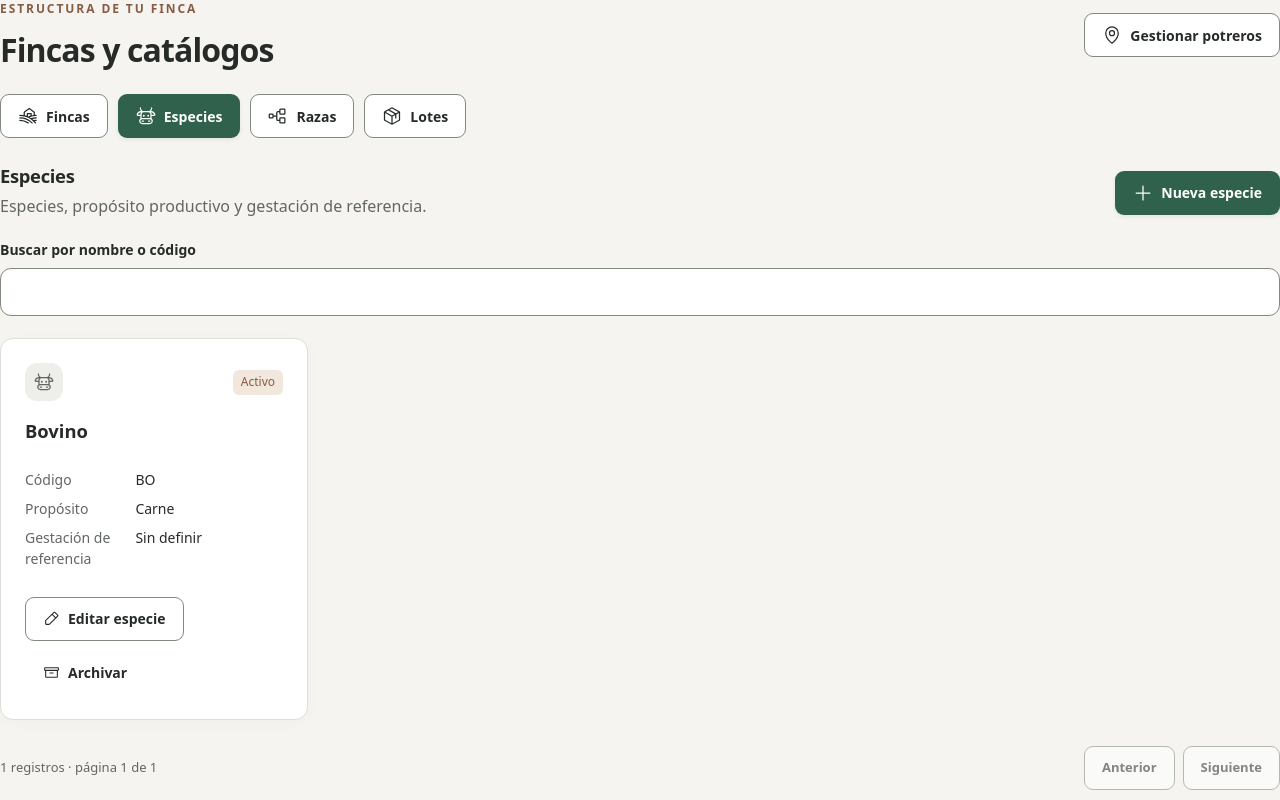
it: creates a species record through its protected endpoint
This screenshot has width=1280, height=800.
Step 1. Click the button "Nueva especie" → {"x": 1198, "y": 193}, box [1115,171,1279,215]
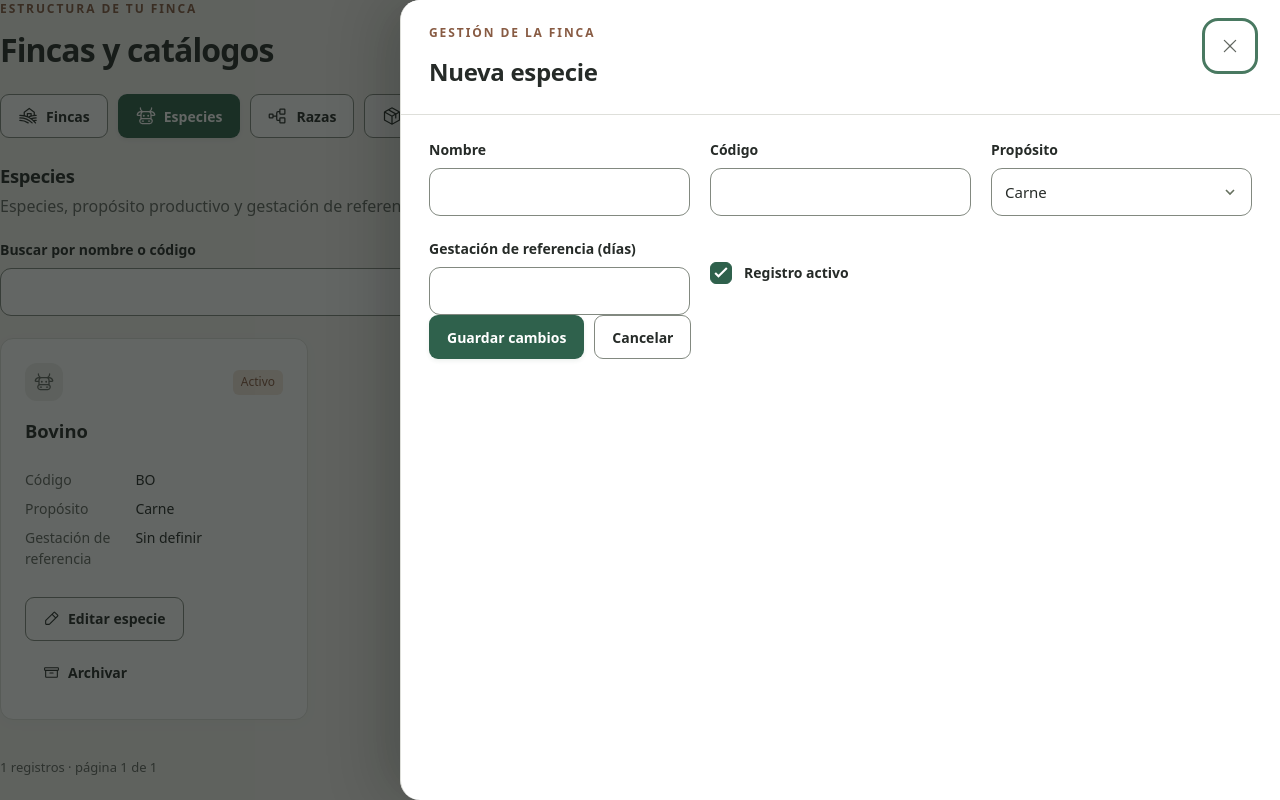
Step 2. Type "Registro nuevo" into the field labelled "Nombre" → {"x": 560, "y": 192}, box [429,168,690,216]
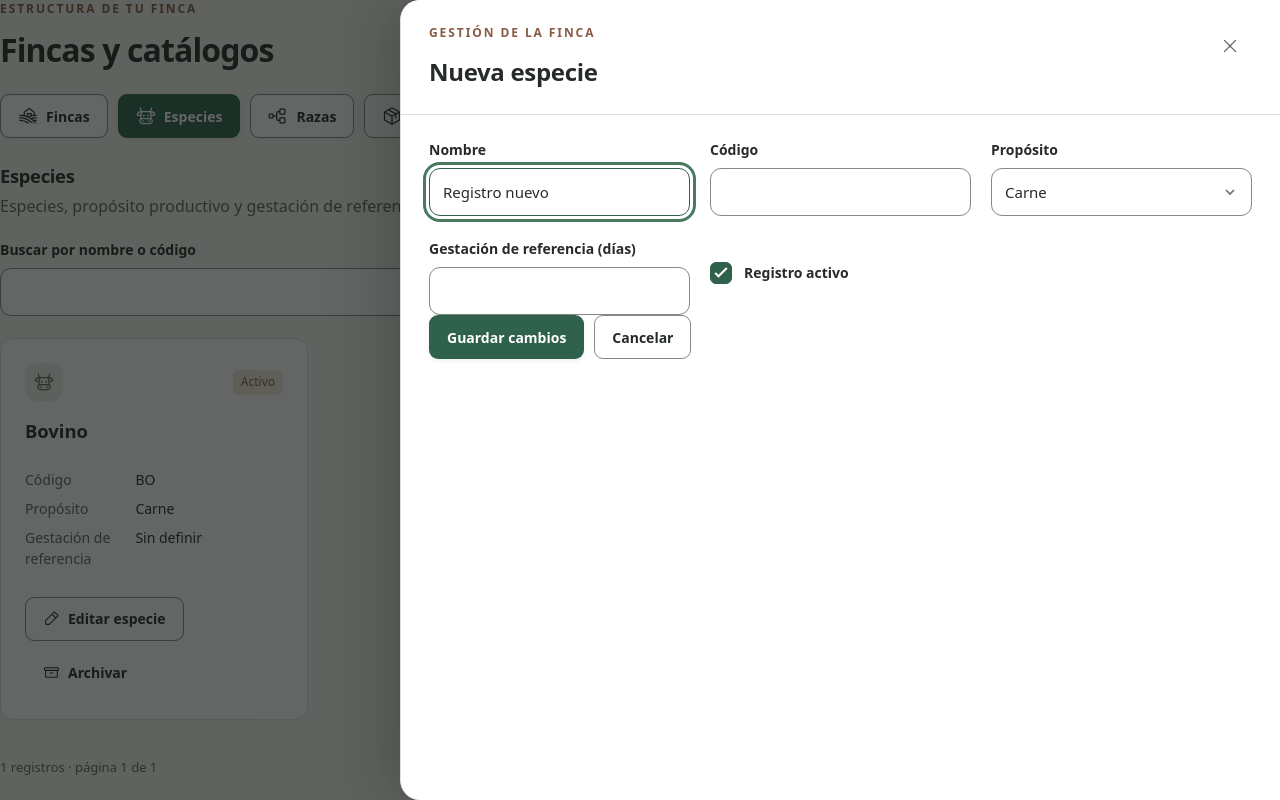
Step 3. Type "NEW" into the field labelled "Código" → {"x": 840, "y": 192}, box [710,168,971,216]
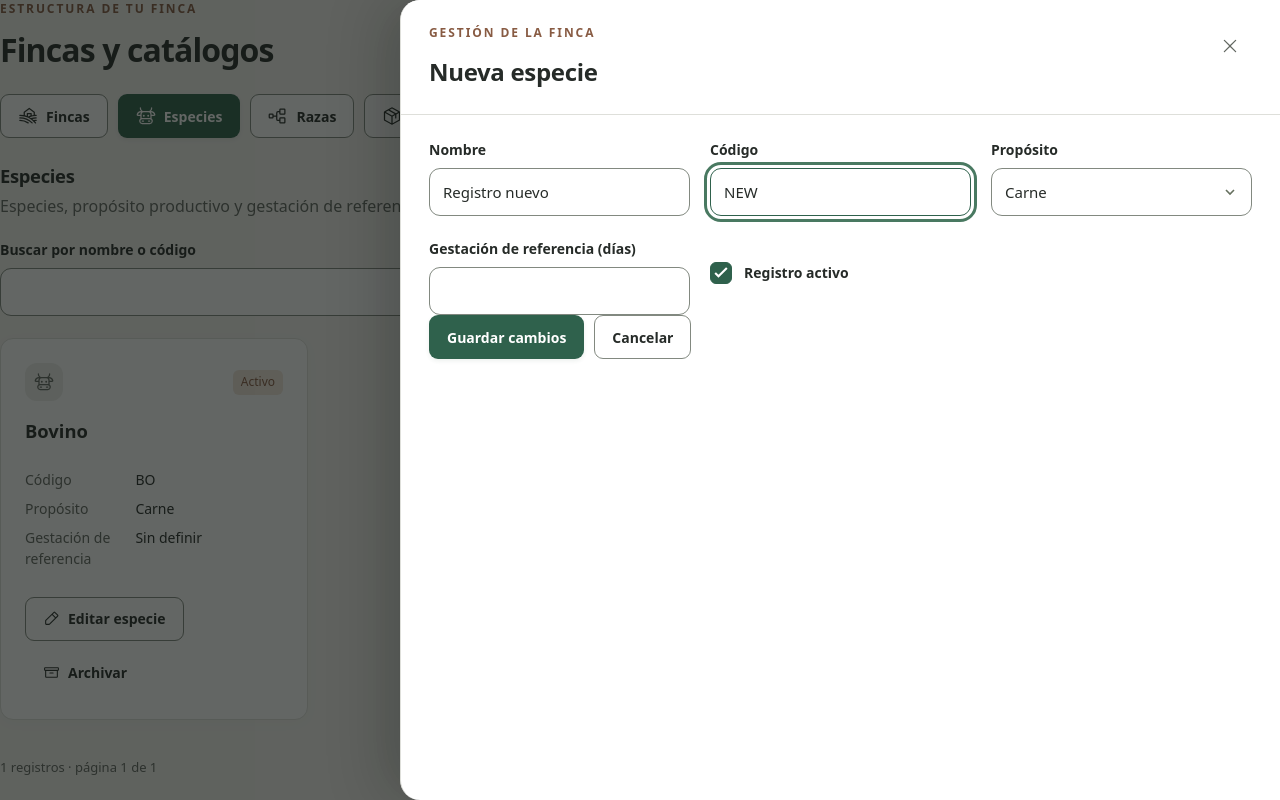
Step 4. Click the button "Guardar cambios" → {"x": 507, "y": 337}, box [429,315,584,359]
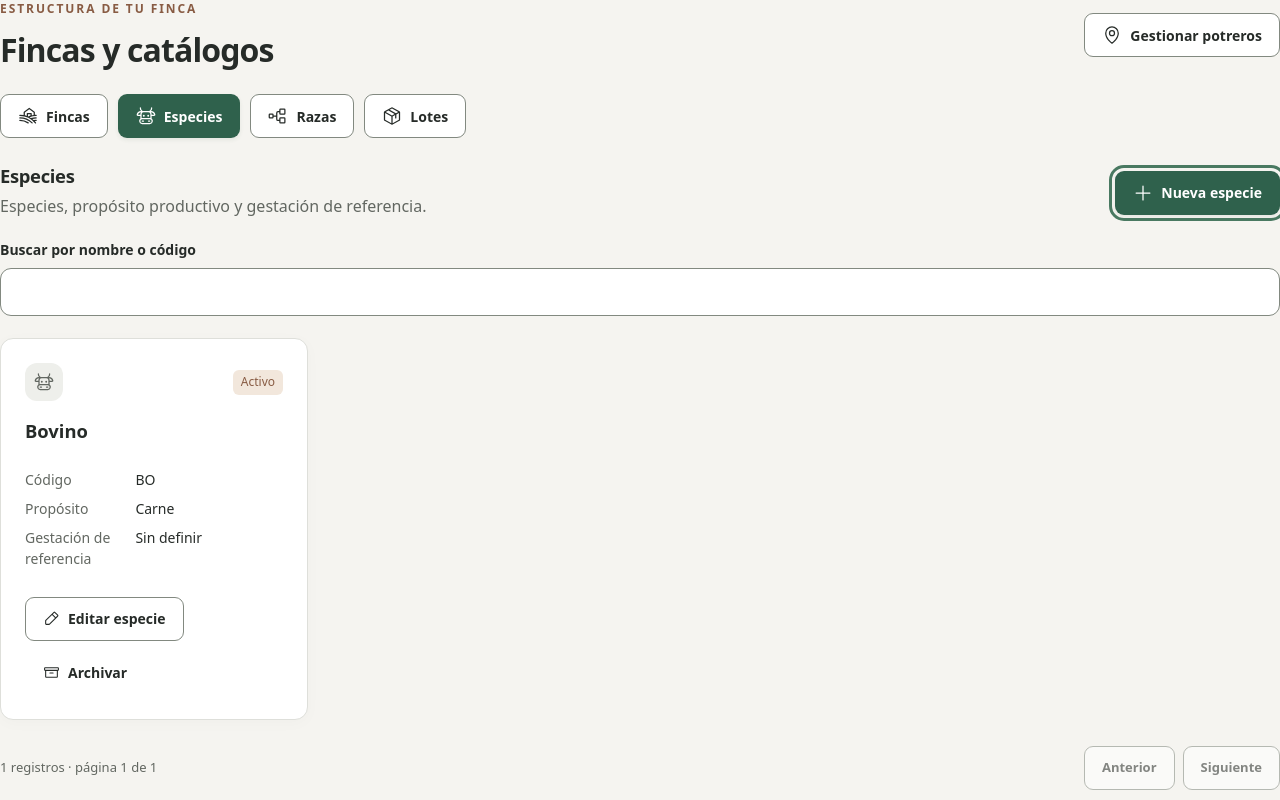
Check: the dialog is gone
